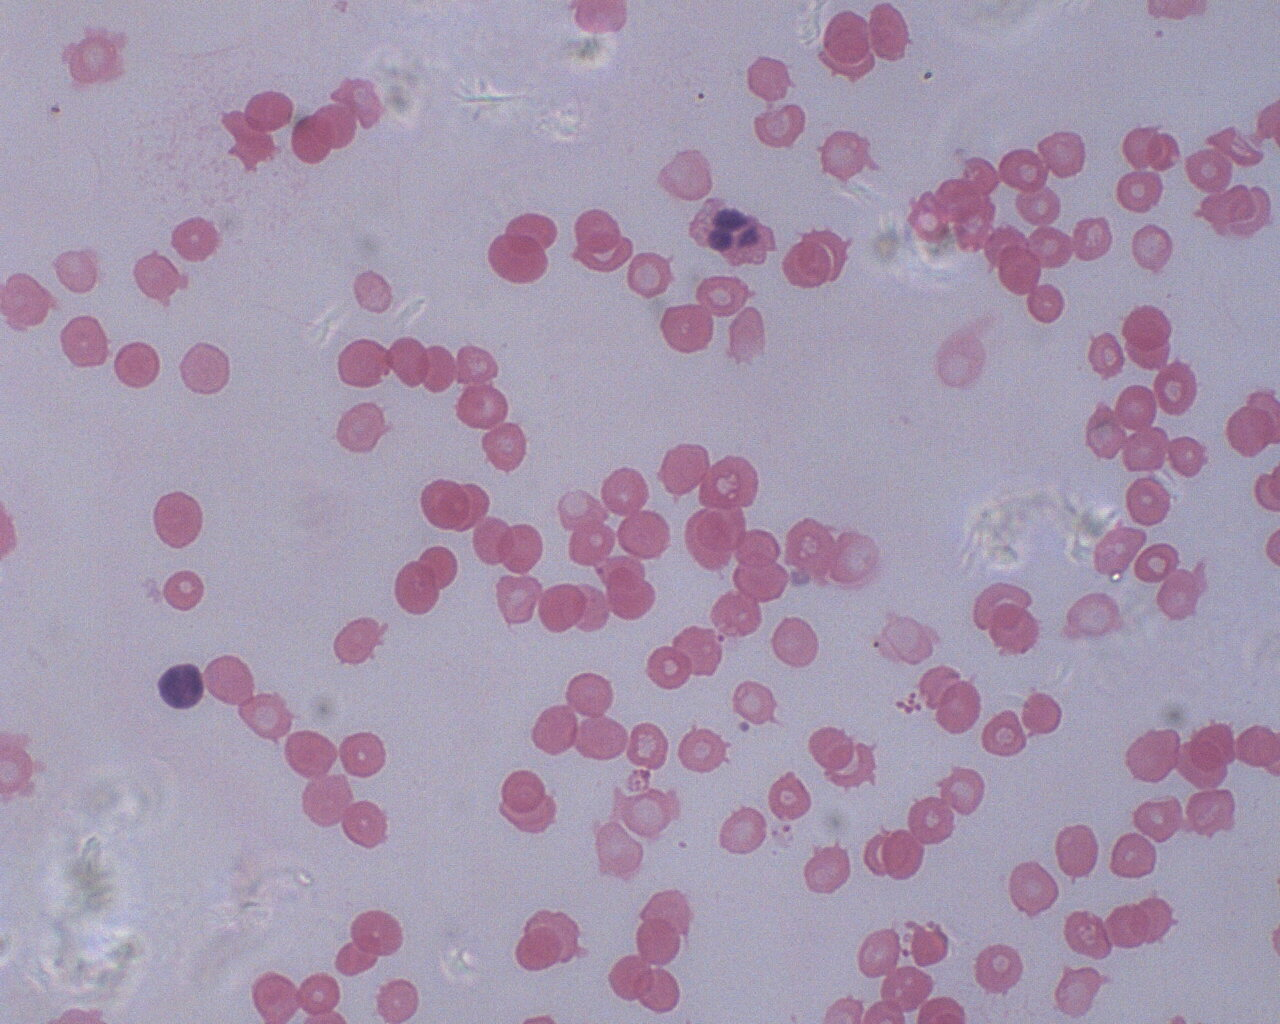lymph: (155, 655, 210, 712)
neutro: (701, 199, 767, 258)
